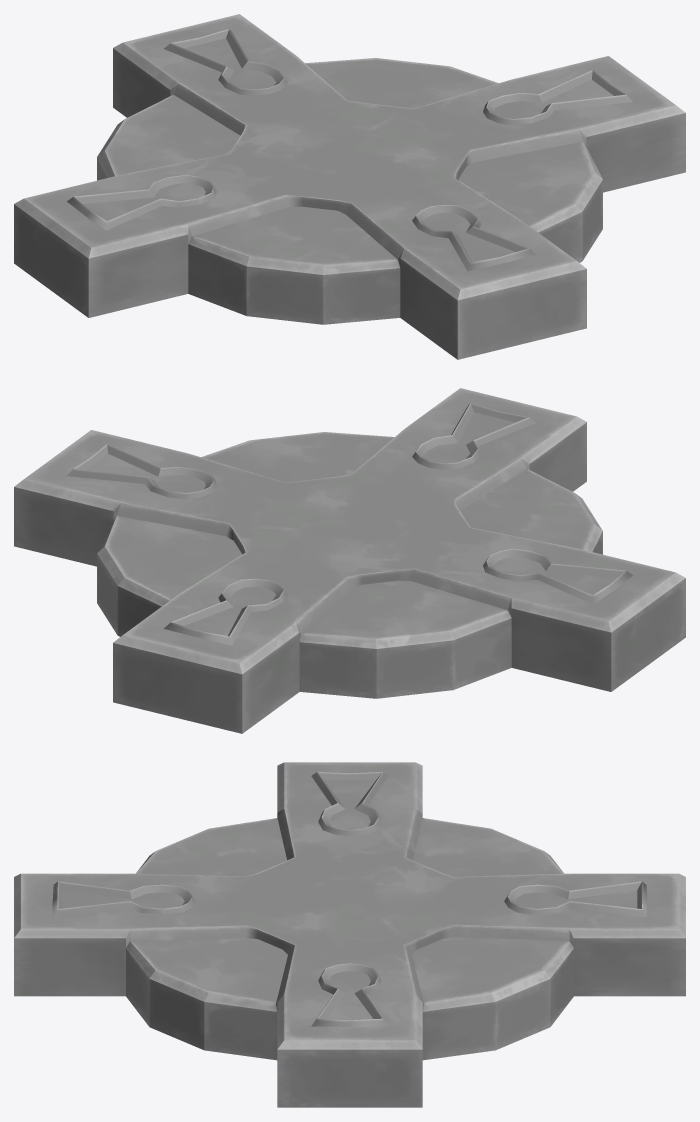
The model's file is keyShrineBase.fbx.
3 views of the same model, one above another, from view 1: azimuth 30°, elevation 25°; view 2: azimuth 150°, elevation 25°; view 3: azimuth 270°, elevation 25° (orthographic). The views are drawn at different scales.
Visible parts, largest first — view 1: keyShrineBase; view 2: keyShrineBase; view 3: keyShrineBase.
Part boxes in pixels (left/top/right/bottom): keyShrineBase: left=14, top=14, right=685, bottom=359; keyShrineBase: left=14, top=388, right=685, bottom=733; keyShrineBase: left=14, top=762, right=685, bottom=1107.
Size of the model in its own units: 571 by 66 by 571.
